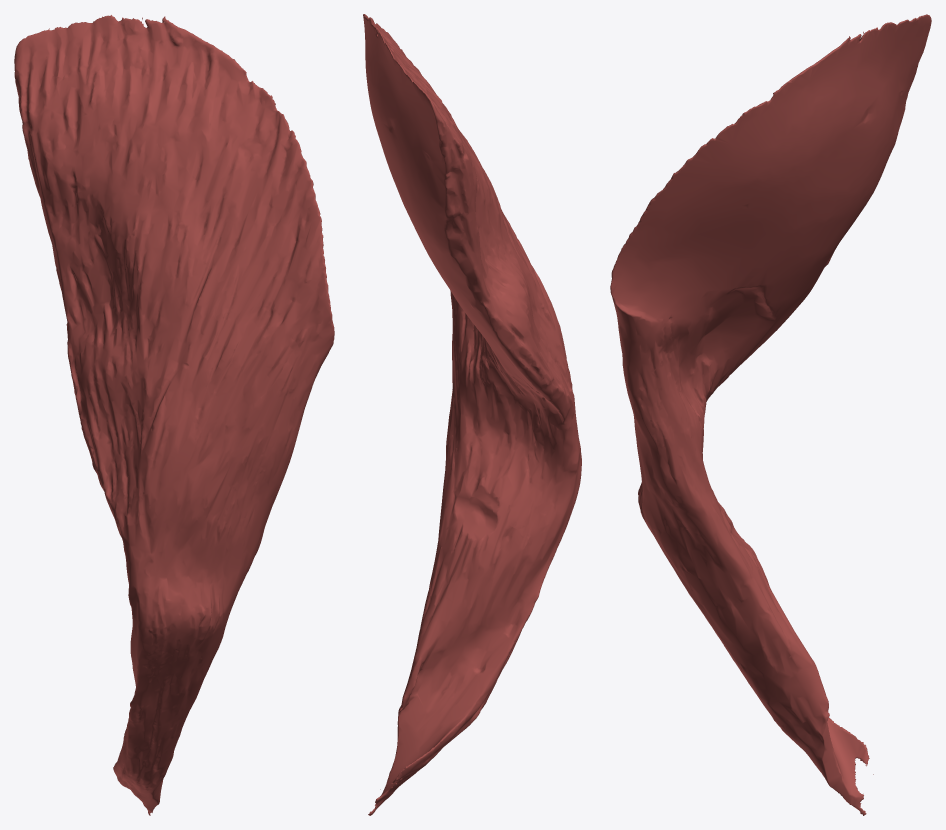
The model's file is FMA22323.glb.
The picture shows the model from 3 angles, left to right: view 1: azimuth 30°, elevation 25°; view 2: azimuth 150°, elevation 25°; view 3: azimuth 270°, elevation 25°; orthographic projection. The views are drawn at different scales.
Parts seen in each view (by area): view 1: FMA22323; view 2: FMA22323; view 3: FMA22323.
Part boxes in pixels (x1,y1,x2,y2): FMA22323: (14,15,334,815); FMA22323: (363,14,581,815); FMA22323: (610,14,931,815).
Bounding box in the file's own units: 0.0544 × 0.2242 × 0.0833.
